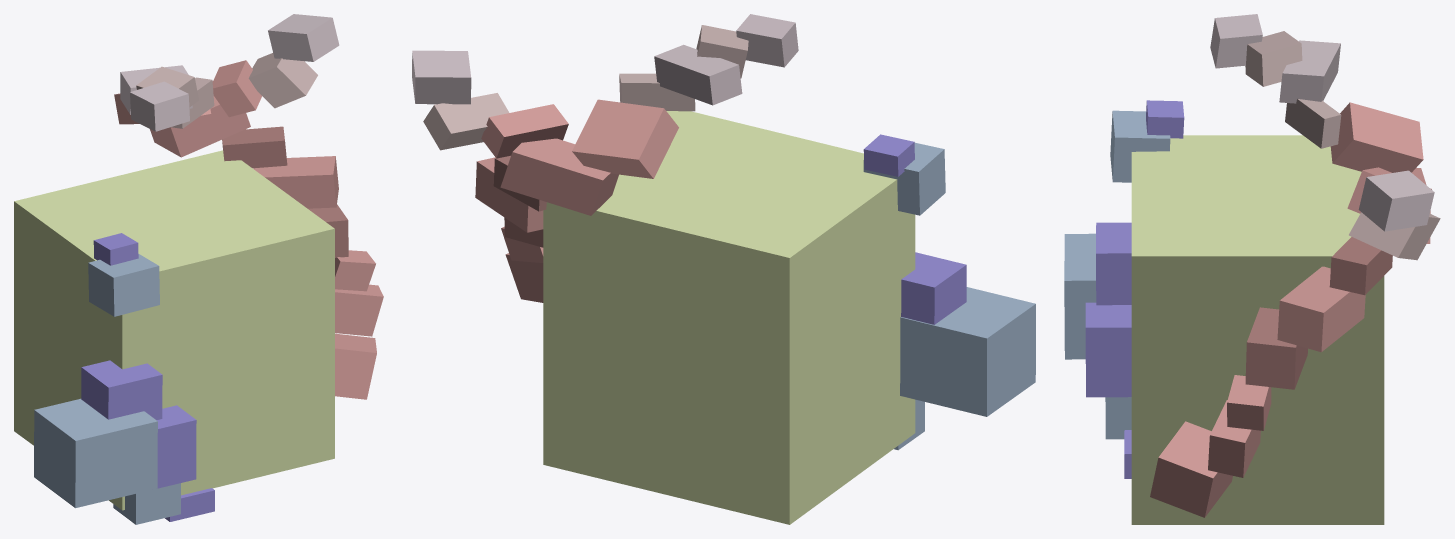
Rendered from 04_27 updated sky env model.fbx.
The picture shows the model from 3 angles, left to right: view 1: azimuth 30°, elevation 25°; view 2: azimuth 150°, elevation 25°; view 3: azimuth 270°, elevation 25°; orthographic projection. The views are drawn at different scales.
Visible parts, largest first — view 1: sky_env_obj; view 2: sky_env_obj; view 3: sky_env_obj.
Boxes of the visible parts, x1,y1,x2,y2 form: sky_env_obj: (14,14,383,524); sky_env_obj: (412,14,1035,524); sky_env_obj: (1064,14,1440,524).
Size of the model in its own units: 21.01 by 19.26 by 14.63.
